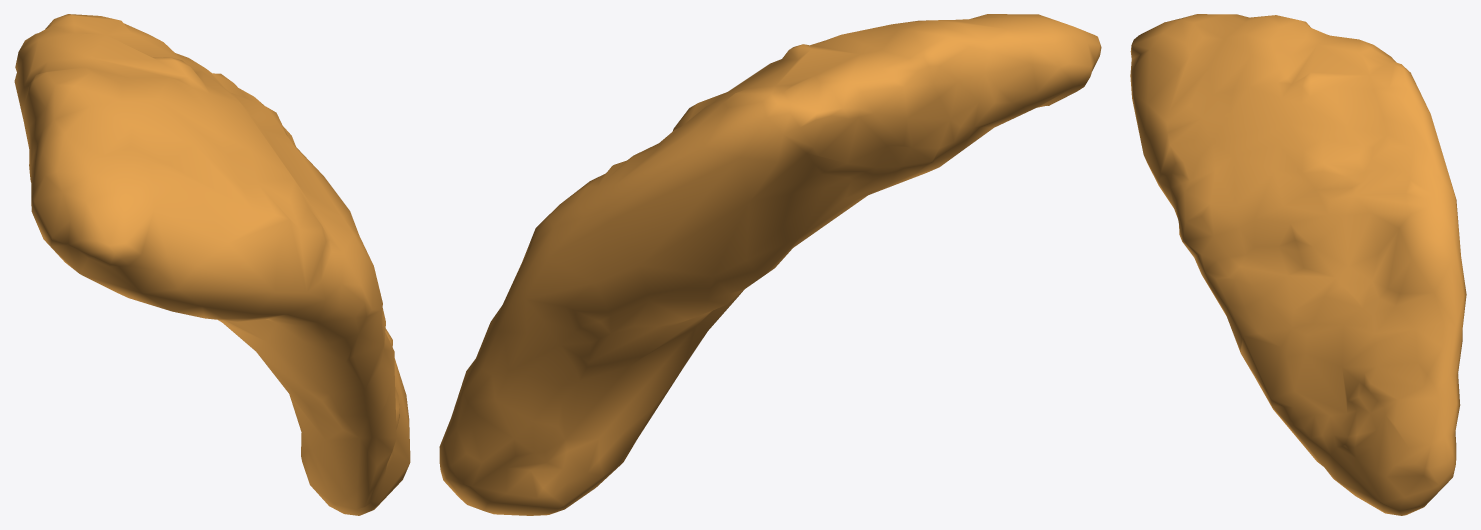
File: nervoso-lacrimal-gland-l.glb
3 renders of one model, left to right at view 1: azimuth 30°, elevation 25°; view 2: azimuth 150°, elevation 25°; view 3: azimuth 270°, elevation 25°, orthographic. The views are drawn at different scales.
Parts seen in each view (by area): view 1: Lacrimal gland.l; view 2: Lacrimal gland.l; view 3: Lacrimal gland.l.
Part boxes in pixels (bbox=[...]): Lacrimal gland.l: bbox=[14, 14, 410, 515]; Lacrimal gland.l: bbox=[439, 14, 1101, 515]; Lacrimal gland.l: bbox=[1130, 14, 1466, 515].
Bounding box in the file's own units: 0.018 × 0.0184 × 0.0151.
